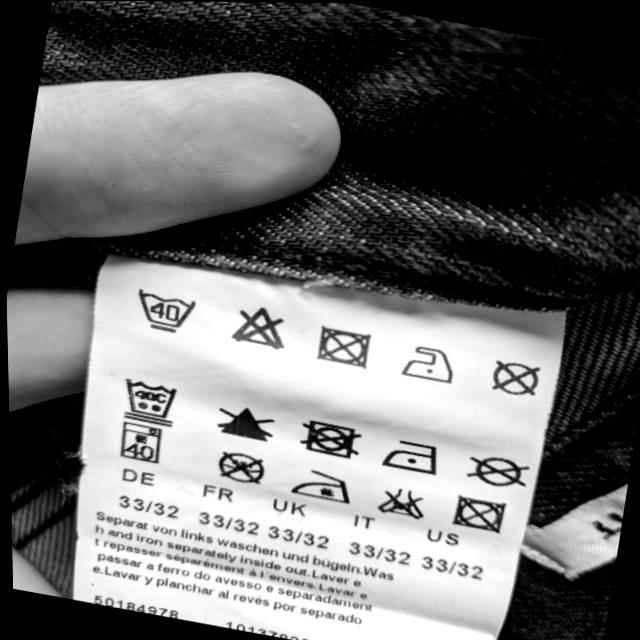40C: (119, 376, 181, 423), (138, 289, 196, 336), (118, 427, 165, 463)
DN_bleach: (228, 304, 287, 350), (215, 402, 275, 443)
DN_dry_clean: (471, 447, 526, 488), (488, 358, 541, 398), (216, 447, 269, 485)
DN_tumble_dry: (315, 322, 375, 370), (303, 415, 361, 458), (451, 494, 512, 533)
iron_low: (400, 342, 455, 386), (385, 437, 443, 474), (298, 471, 354, 502)
